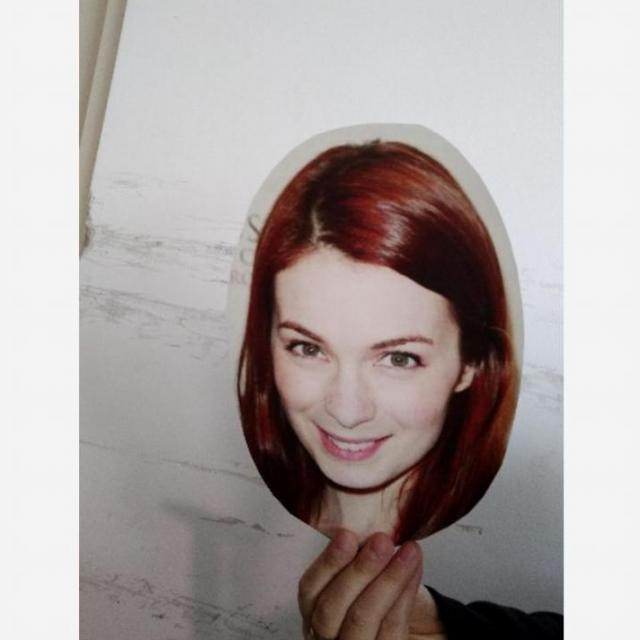photo: (227, 116, 535, 551)
